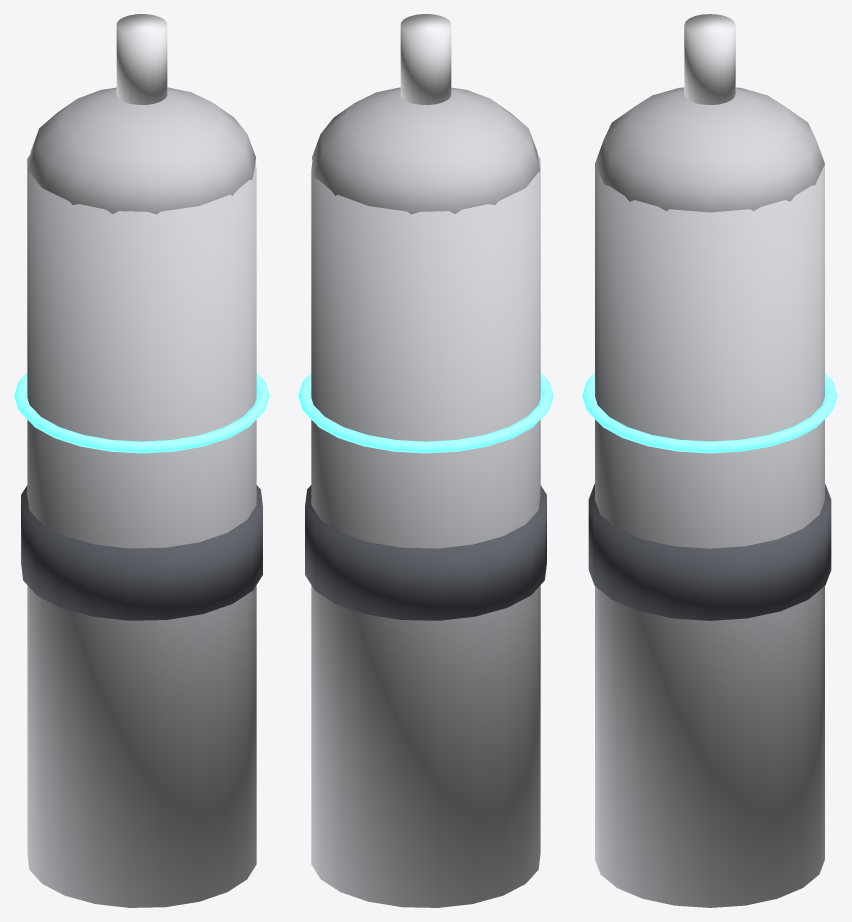
File: canister_gas_tall.glb
The picture shows the model from 3 angles, left to right: view 1: azimuth 30°, elevation 25°; view 2: azimuth 150°, elevation 25°; view 3: azimuth 270°, elevation 25°; orthographic projection.
Visible parts, largest first — view 1: GD_canister_gas_tall__m0, GD_canister_gas_tall__m2, GD_canister_gas_tall__m1, GD_canister_gas_tall__m3; view 2: GD_canister_gas_tall__m0, GD_canister_gas_tall__m2, GD_canister_gas_tall__m1, GD_canister_gas_tall__m3; view 3: GD_canister_gas_tall__m0, GD_canister_gas_tall__m2, GD_canister_gas_tall__m1, GD_canister_gas_tall__m3.
Part boxes in pixels (box(x1,y1,x2,y2)): GD_canister_gas_tall__m0: box(27, 87, 256, 907); GD_canister_gas_tall__m2: box(21, 485, 262, 620); GD_canister_gas_tall__m1: box(116, 14, 167, 104); GD_canister_gas_tall__m3: box(14, 372, 269, 453); GD_canister_gas_tall__m0: box(311, 87, 540, 907); GD_canister_gas_tall__m2: box(305, 485, 546, 620); GD_canister_gas_tall__m1: box(400, 14, 451, 104); GD_canister_gas_tall__m3: box(298, 372, 553, 453); GD_canister_gas_tall__m0: box(595, 87, 824, 907); GD_canister_gas_tall__m2: box(588, 484, 831, 620); GD_canister_gas_tall__m1: box(684, 14, 735, 104); GD_canister_gas_tall__m3: box(582, 373, 837, 453).
Bounding box in the file's own units: 0.4 × 1.44 × 0.4.
